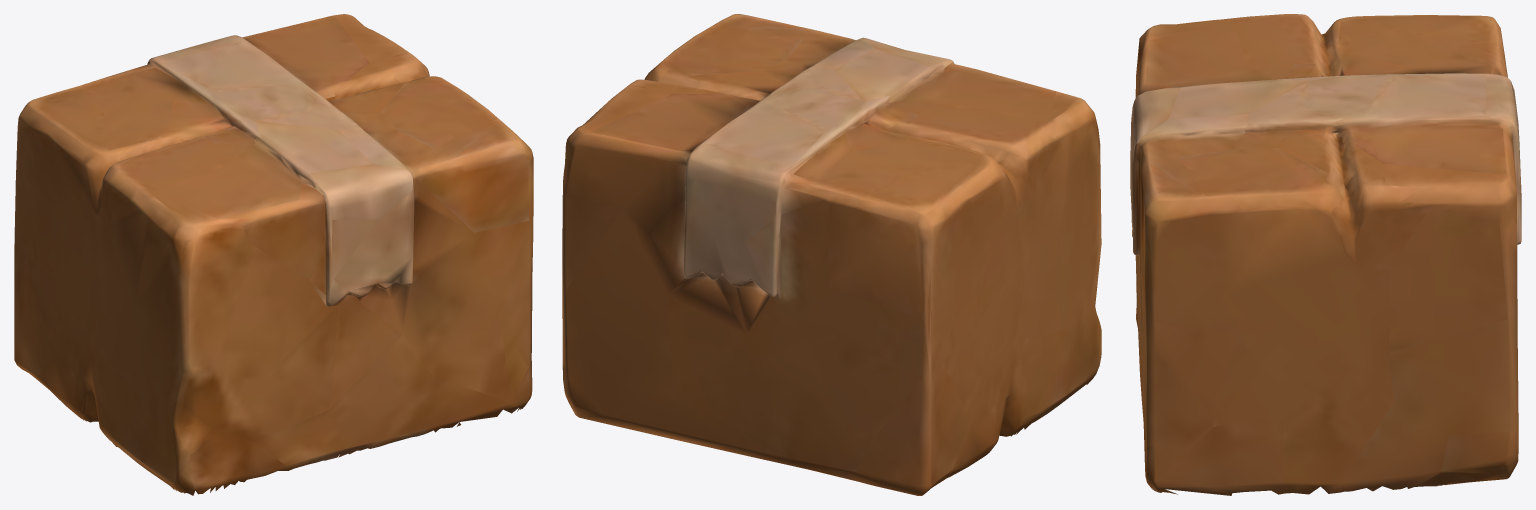
File: d_parcel.glb
3 views of the same model, side by side, from view 1: azimuth 30°, elevation 25°; view 2: azimuth 150°, elevation 25°; view 3: azimuth 270°, elevation 25° (orthographic). The views are drawn at different scales.
Bounding box in the file's own units: 0.3793 × 0.2895 × 0.3282.
Materials: 1 (1 with a texture image).
